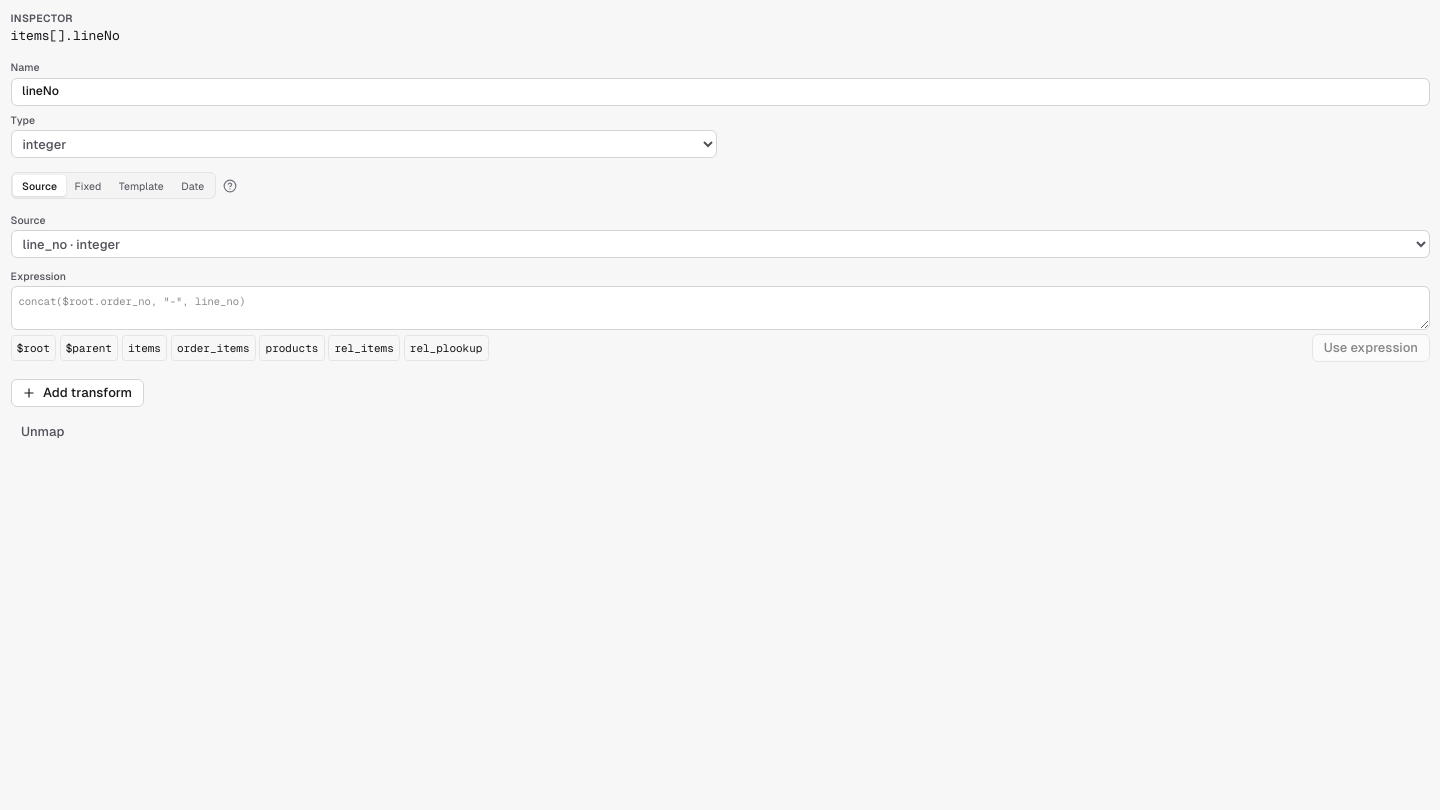
Test: ComposerInspector › OC-179 AC1: Now in the Composer, with the format from the field's type
Click the radio button labelled "Date" at (193, 186), box [172,175,213,196]
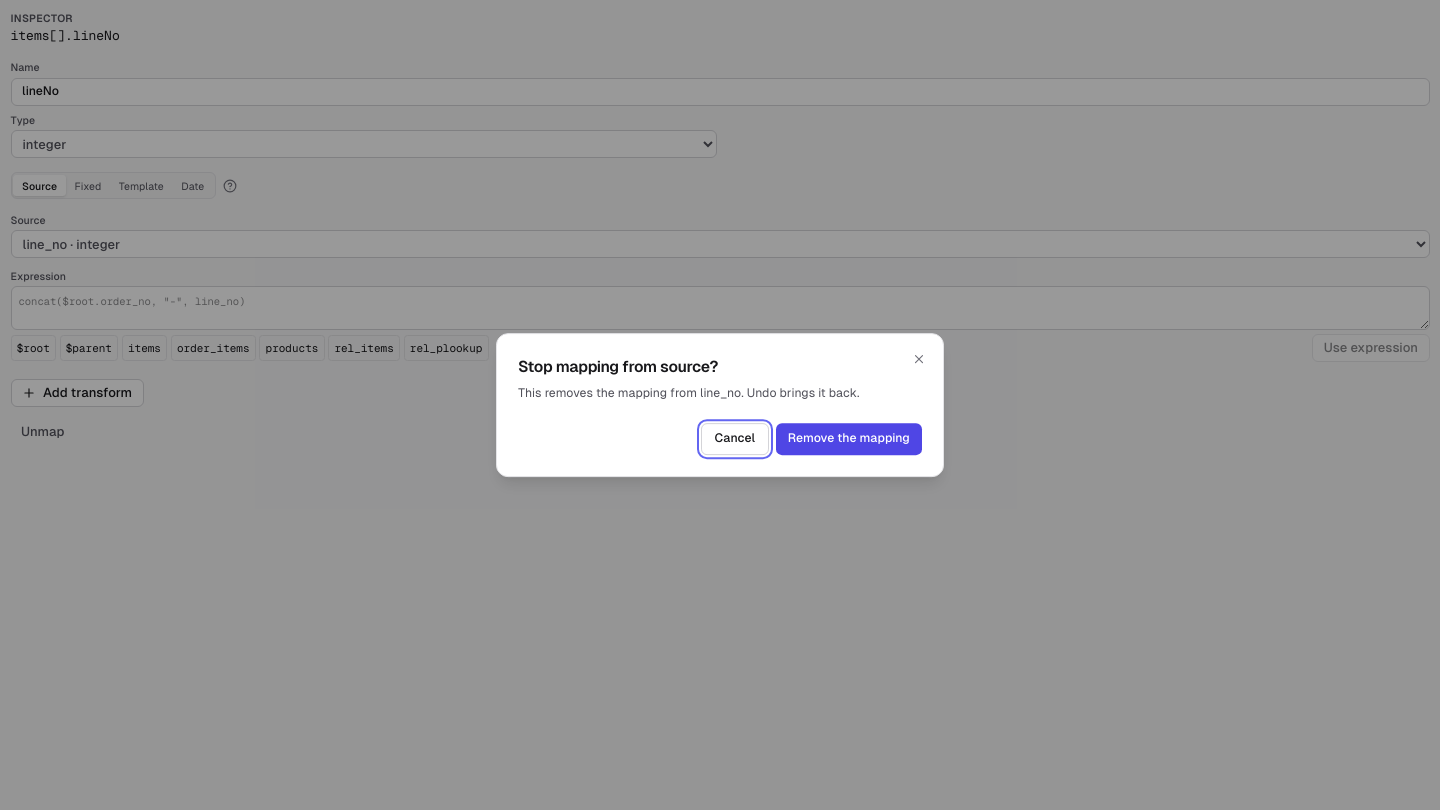
Click the button "Remove the mapping" at (849, 439), box [776,423,922,455]
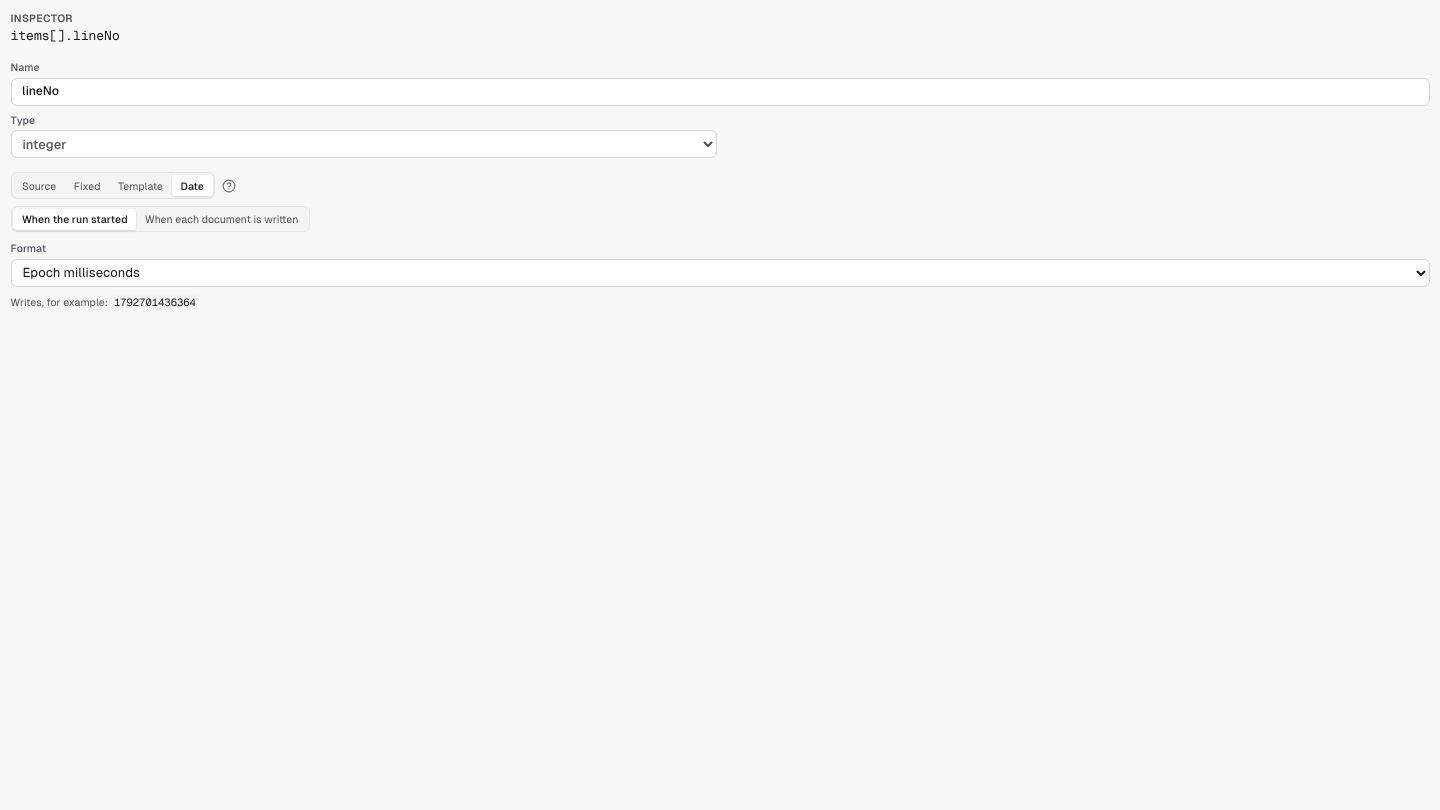
expect the text with test id "now-sample" reads "1792701436364": met, box [114,295,196,309]
